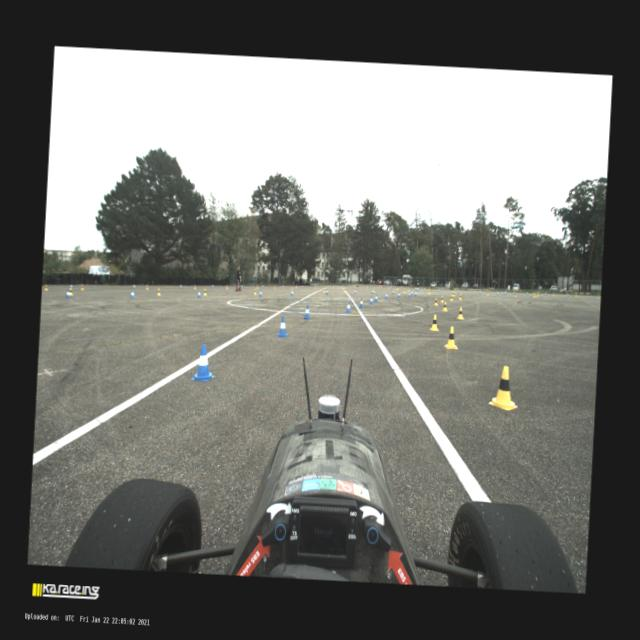blue_cone: (190, 343, 217, 382), (276, 316, 290, 338), (304, 305, 312, 320), (346, 301, 352, 313), (358, 298, 364, 308), (369, 296, 374, 304), (130, 290, 135, 298), (66, 290, 71, 298), (374, 294, 378, 302), (198, 290, 202, 298), (70, 284, 74, 290), (385, 292, 388, 299), (414, 291, 418, 296), (457, 288, 460, 294), (291, 290, 294, 296), (408, 292, 412, 296), (371, 289, 374, 294), (260, 290, 262, 297), (398, 292, 400, 298), (326, 289, 328, 295), (392, 289, 394, 295), (133, 284, 136, 288), (479, 290, 482, 294), (354, 289, 356, 294), (211, 285, 214, 288), (497, 292, 499, 296), (180, 284, 182, 288), (411, 291, 413, 295), (424, 288, 426, 292), (502, 291, 504, 295), (504, 290, 506, 294), (544, 292, 546, 296), (282, 285, 284, 288), (301, 285, 303, 288), (317, 285, 319, 288), (330, 285, 332, 288), (352, 285, 354, 288), (415, 287, 417, 290), (438, 289, 440, 292), (526, 292, 528, 295), (566, 293, 568, 296), (380, 286, 382, 288), (390, 286, 392, 288), (411, 288, 413, 290), (342, 286, 344, 288), (241, 286, 243, 288), (512, 292, 514, 294), (418, 288, 419, 291), (368, 286, 368, 288), (402, 287, 402, 289)
yellow_cone: (488, 366, 520, 410), (444, 326, 459, 349), (429, 314, 440, 332), (457, 307, 465, 319), (442, 302, 448, 312), (156, 288, 162, 296), (434, 298, 438, 306), (440, 296, 444, 304), (204, 288, 208, 296), (70, 288, 74, 296), (44, 285, 49, 291), (452, 292, 456, 298), (81, 284, 85, 290), (290, 288, 294, 294), (451, 295, 454, 301), (459, 294, 462, 300), (428, 288, 431, 294), (514, 292, 517, 298), (254, 288, 257, 294), (596, 294, 600, 298), (454, 289, 457, 294), (146, 285, 149, 290), (343, 288, 346, 293), (274, 284, 276, 290), (194, 284, 196, 290), (404, 288, 406, 294), (256, 284, 258, 289), (486, 291, 488, 296), (373, 288, 375, 293), (388, 286, 391, 289), (324, 288, 326, 292), (226, 285, 228, 289), (396, 286, 398, 290), (408, 288, 410, 292), (533, 294, 535, 298), (536, 294, 538, 298), (552, 292, 554, 296), (574, 294, 576, 298), (262, 285, 264, 288), (295, 285, 297, 288), (355, 286, 357, 289), (378, 286, 381, 288), (344, 286, 346, 289), (314, 286, 316, 288), (332, 286, 334, 288), (394, 288, 396, 290), (367, 286, 368, 289)
